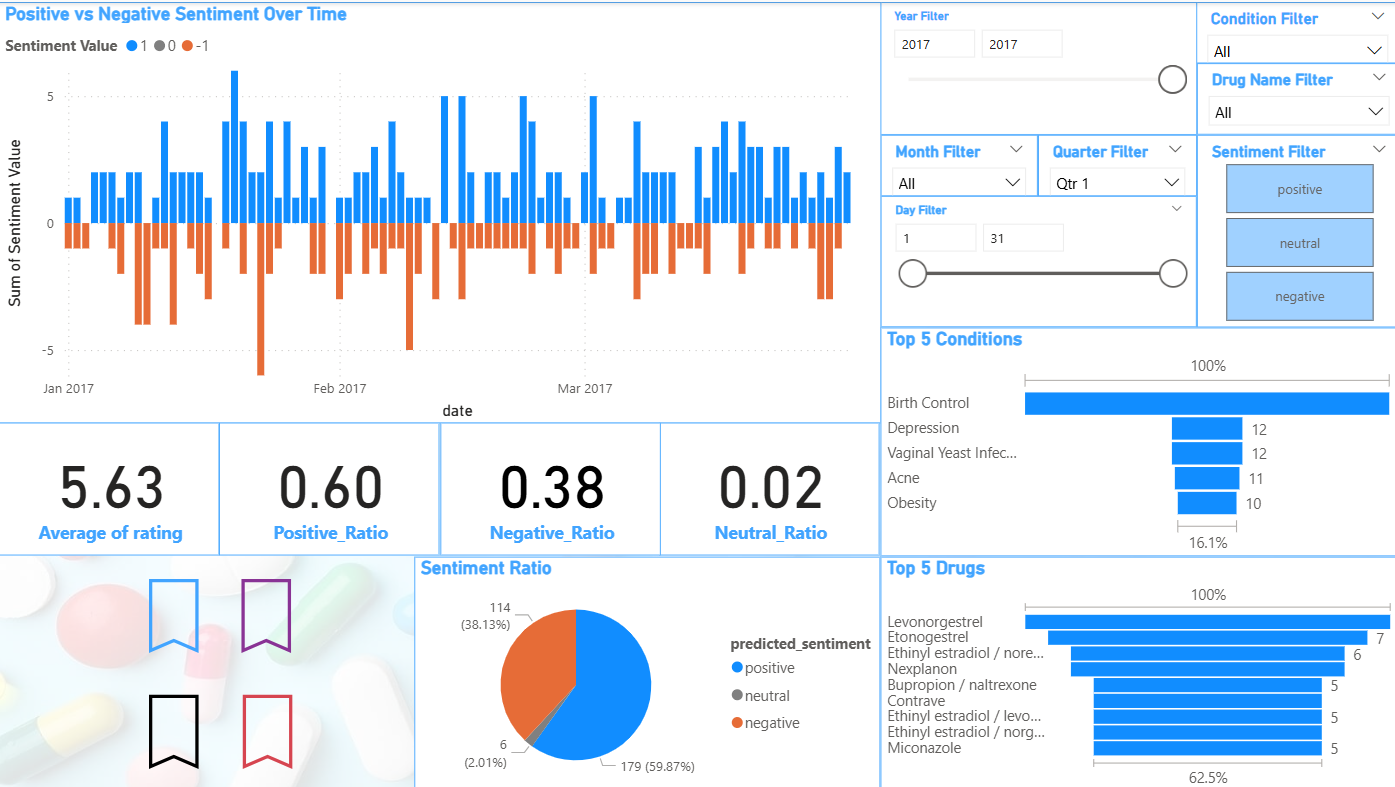

What the dashboard file says about the page in this screenshot:
{"tool":"powerbi","page":{"name":"Page 1","canvas":[1280,720],"ordinal":0},"visuals":[{"type":"slicer","fields":{"Values":["predicted_sentiments.condition"]},"box":[1092.5,0,186.2,56.2],"z":0},{"type":"slicer","fields":{"Values":["predicted_sentiments.date.Variation.Date Hierarchy.Year"]},"box":[803.8,0,290,121.2],"z":1000},{"type":"slicer","fields":{"Values":["predicted_sentiments.drugName"]},"box":[1093.8,56.2,186.2,65],"z":2000},{"type":"slicer","fields":{"Values":["predicted_sentiments.predicted_sentiment"]},"box":[1093.8,121.2,186.2,176.2],"z":3000},{"type":"slicer","fields":{"Values":["predicted_sentiments.date.Variation.Date Hierarchy.Day"]},"box":[805,177.5,288.8,120],"z":4000},{"type":"slicer","fields":{"Values":["predicted_sentiments.date.Variation.Date Hierarchy.Quarter"]},"box":[948.8,121.2,145,56.2],"z":5000},{"type":"slicer","fields":{"Values":["predicted_sentiments.date.Variation.Date Hierarchy.Month"]},"box":[805,121.2,143.8,56.2],"z":6000},{"type":"columnChart","title":"Positive vs Negative Sentiment Over Time","fields":{"Y":["Sum(predicted_sentiments.Sentiment Value)"],"Category":["predicted_sentiments.date.Variation.Date Hierarchy.Year"],"Series":["predicted_sentiments.Sentiment Value"]},"box":[0,0,805.4,384.8],"z":7000},{"type":"funnel","title":"Top 5 Conditions","fields":{"Y":["CountNonNull(predicted_sentiments.condition)"],"Category":["predicted_sentiments.condition"]},"box":[805.4,297.6,473.4,209],"z":8000},{"type":"funnel","title":"Top 5 Drugs","fields":{"Category":["predicted_sentiments.drugName"],"Y":["CountNonNull(predicted_sentiments.drugName)"]},"box":[804.8,506.2,474.3,213.8],"z":9000},{"type":"pieChart","title":"Sentiment Ratio","fields":{"Y":["CountNonNull(predicted_sentiments.predicted_sentiment)"],"Category":["predicted_sentiments.predicted_sentiment"]},"box":[379.8,506,425.7,213.6],"z":10000},{"type":"card","fields":{"Values":["Avg(predicted_sentiments.rating)"]},"box":[0,384.6,201.5,121.6],"z":11000},{"type":"card","fields":{"Values":["predicted_sentiments.Positive_Ratio"]},"box":[201.5,384.6,201.5,121.6],"z":12000},{"type":"card","fields":{"Values":["predicted_sentiments.Neutral_Ratio"]},"box":[603.3,384.6,201.5,121.6],"z":13000},{"type":"card","fields":{"Values":["predicted_sentiments.Negative_Ratio"]},"box":[403,384.6,201.5,121.6],"z":14000},{"type":"actionButton","box":[117.2,507.4,84.6,106.1],"z":14001},{"type":"actionButton","box":[117.2,613.5,84.6,106.1],"z":14002},{"type":"actionButton","box":[201.8,507.4,84.6,106.1],"z":14003},{"type":"actionButton","box":[203.2,613.5,84.6,106.1],"z":14004}]}

Visuals, with their boxes in screenshot pixels (x1, y1, x2, y2), scaled from the page's 1280x720 canvas onto the 1395x787 screenshot:
slicer - predicted_sentiments.condition: bbox=(1191, 0, 1394, 61)
slicer - predicted_sentiments.date.Variation.Date Hierarchy.Year: bbox=(876, 0, 1192, 132)
slicer - predicted_sentiments.drugName: bbox=(1192, 61, 1394, 132)
slicer - predicted_sentiments.predicted_sentiment: bbox=(1192, 132, 1394, 325)
slicer - predicted_sentiments.date.Variation.Date Hierarchy.Day: bbox=(877, 194, 1192, 325)
slicer - predicted_sentiments.date.Variation.Date Hierarchy.Quarter: bbox=(1034, 132, 1192, 194)
slicer - predicted_sentiments.date.Variation.Date Hierarchy.Month: bbox=(877, 132, 1034, 194)
"Positive vs Negative Sentiment Over Time" columnChart: bbox=(0, 0, 878, 421)
"Top 5 Conditions" funnel: bbox=(878, 325, 1394, 554)
"Top 5 Drugs" funnel: bbox=(877, 553, 1394, 786)
"Sentiment Ratio" pieChart: bbox=(414, 553, 878, 786)
card - Avg(predicted_sentiments.rating): bbox=(0, 420, 220, 553)
card - predicted_sentiments.Positive_Ratio: bbox=(220, 420, 439, 553)
card - predicted_sentiments.Neutral_Ratio: bbox=(658, 420, 877, 553)
card - predicted_sentiments.Negative_Ratio: bbox=(439, 420, 659, 553)
actionButton: bbox=(128, 555, 220, 671)
actionButton: bbox=(128, 671, 220, 786)
actionButton: bbox=(220, 555, 312, 671)
actionButton: bbox=(221, 671, 314, 786)
